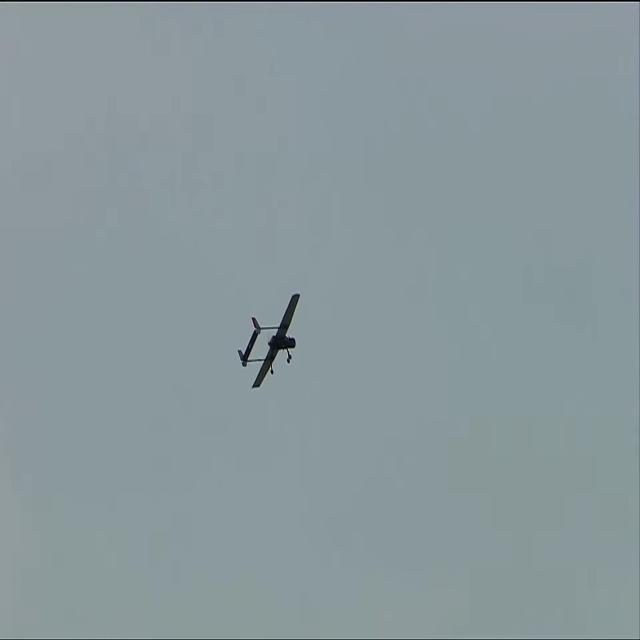iha: (237, 323, 301, 356)
